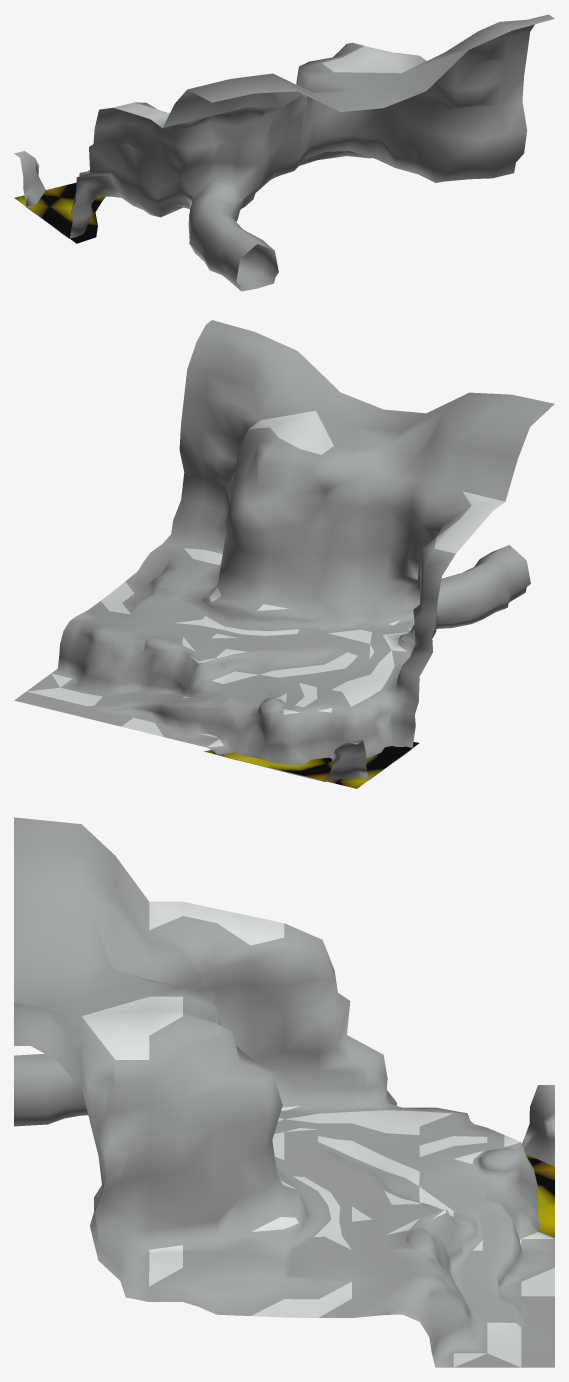
The picture shows the model from 3 angles, top to bottom: view 1: azimuth 30°, elevation 25°; view 2: azimuth 150°, elevation 25°; view 3: azimuth 270°, elevation 25°; orthographic projection. The views are drawn at different scales.
Parts seen in each view (by area): view 1: G:\FFXIV-MapTools\exports\f1t2\bg\ffxiv\fst_f1\twn\f1t2\bgpl (×8); view 2: G:\FFXIV-MapTools\exports\f1t2\bg\ffxiv\fst_f1\twn\f1t2\bgpl (×12); view 3: G:\FFXIV-MapTools\exports\f1t2\bg\ffxiv\fst_f1\twn\f1t2\bgpl (×12).
Boxes of the visible parts, x1,y1,x2,y2 form: G:\FFXIV-MapTools\exports\f1t2\bg\ffxiv\fst_f1\twn\f1t2\bgpl (×8): [14, 14, 554, 291]; G:\FFXIV-MapTools\exports\f1t2\bg\ffxiv\fst_f1\twn\f1t2\bgpl (×12): [14, 320, 554, 788]; G:\FFXIV-MapTools\exports\f1t2\bg\ffxiv\fst_f1\twn\f1t2\bgpl (×12): [14, 817, 554, 1367].
Size of the model in its own units: 64 by 43.1 by 64.
